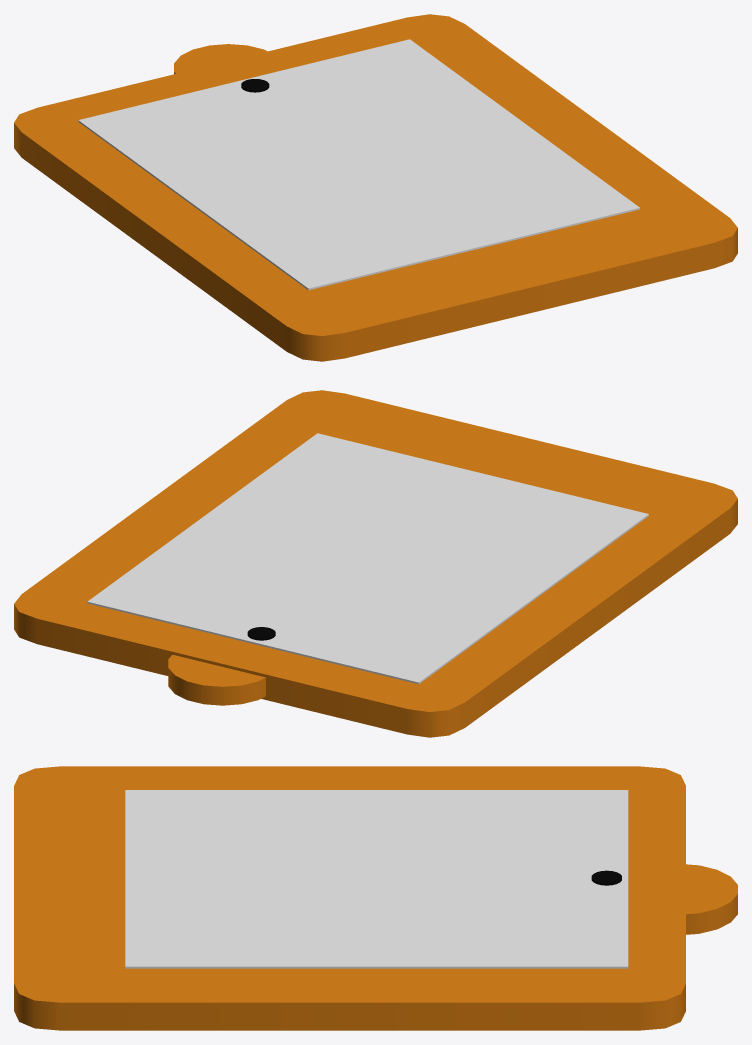
File: nootepad.FBX
The picture shows the model from 3 angles, top to bottom: view 1: azimuth 30°, elevation 25°; view 2: azimuth 150°, elevation 25°; view 3: azimuth 270°, elevation 25°; orthographic projection. The views are drawn at different scales.
Parts seen in each view (by area): view 1: Box01, Plane01, Cylinder01; view 2: Plane01, Box01, Cylinder01; view 3: Plane01, Box01, Cylinder01.
Boxes of the visible parts, x1,y1,x2,y2 form: Box01: (14, 14, 737, 361); Plane01: (78, 39, 639, 290); Cylinder01: (174, 44, 267, 74); Plane01: (87, 433, 648, 684); Box01: (14, 390, 737, 737); Cylinder01: (168, 654, 265, 705); Plane01: (125, 790, 628, 968); Box01: (14, 766, 685, 1030); Cylinder01: (686, 864, 737, 934).
Size of the model in its own units: 52.22 by 3.45 by 67.6.
